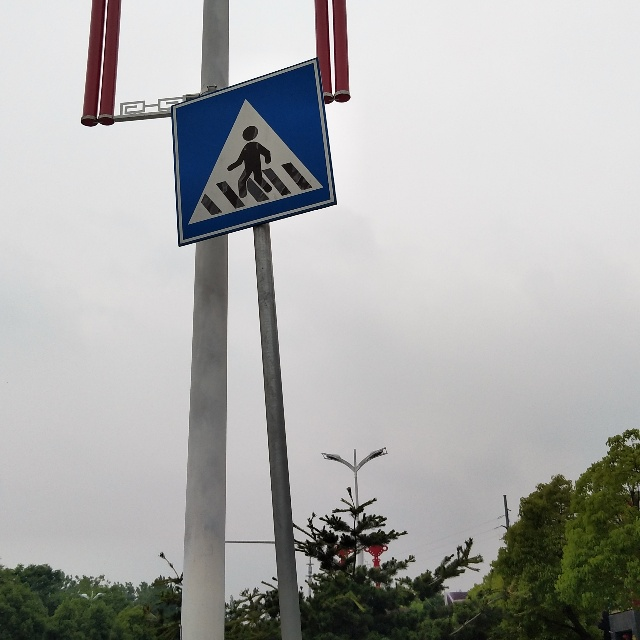crosswalk: (150, 57, 349, 245)
